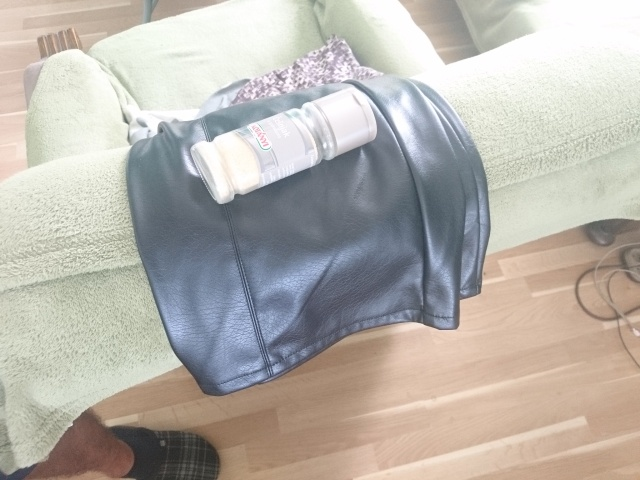Kotanyi Garlic Granules 70g: (187, 84, 380, 207)
